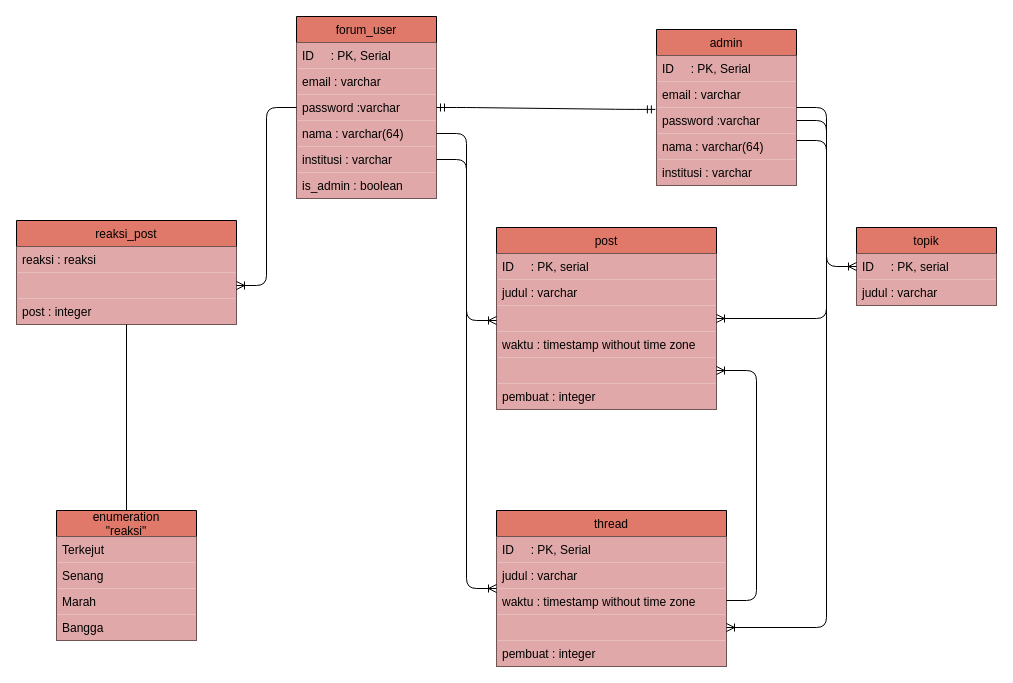
Some shapes in this 1013 by 683 pixel diagram are drawn without their labels. Each missing label, with the centre of its shape:
"dari : integer" goes at point 126,285.
"isi : varchar" goes at point 606,318.
"thread : integer" goes at point 606,370.
"topik : integer" goes at point 611,627.
